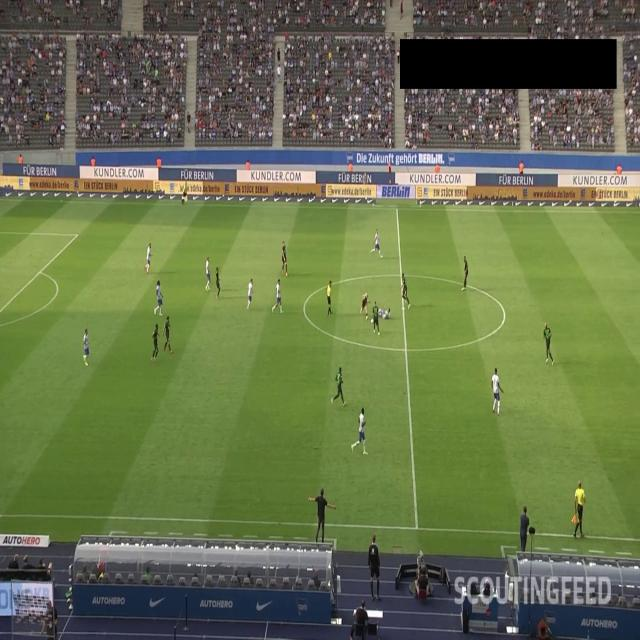ball: (367, 310, 376, 328)
player: (331, 363, 347, 410), (491, 367, 505, 419), (355, 402, 367, 461), (461, 251, 472, 296), (270, 276, 282, 316), (544, 322, 553, 371), (203, 250, 213, 292), (81, 322, 91, 364), (279, 239, 289, 279), (246, 274, 256, 314), (370, 301, 380, 337), (163, 316, 173, 352), (400, 271, 409, 307), (375, 303, 393, 321), (156, 282, 164, 318), (373, 229, 382, 260), (215, 263, 222, 300), (151, 326, 159, 356), (146, 241, 151, 276), (361, 289, 367, 315)
